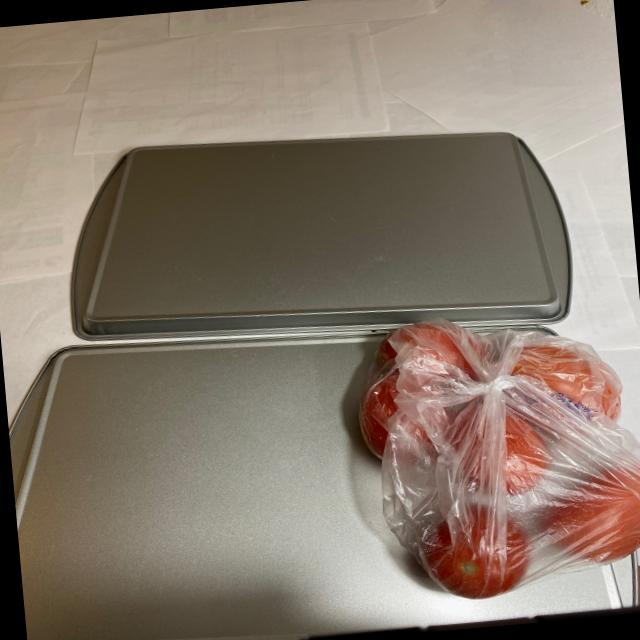tomato: (367, 298, 640, 605)
